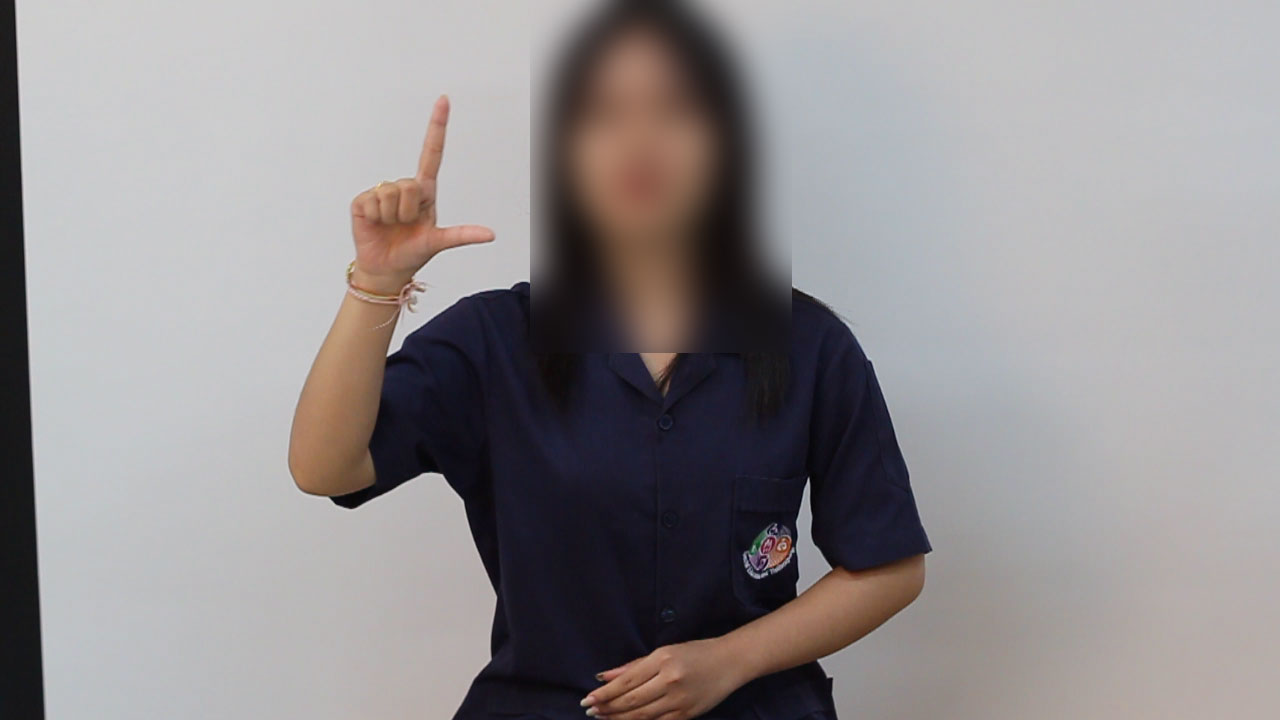lor: (336, 85, 530, 298)
